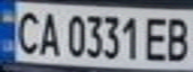0: (60, 10, 84, 58)
1: (121, 12, 142, 61)
3: (81, 11, 106, 60), (103, 11, 124, 61)
A: (36, 8, 63, 56)
B: (163, 12, 193, 63)
C: (9, 6, 42, 56)
E: (142, 12, 172, 62)
